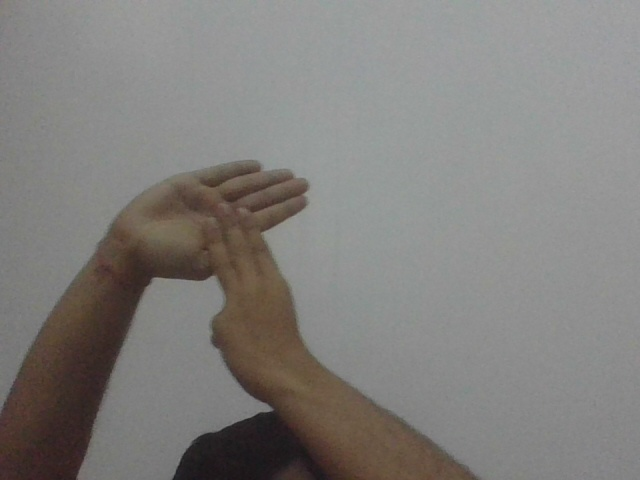M: (134, 160, 316, 326)
